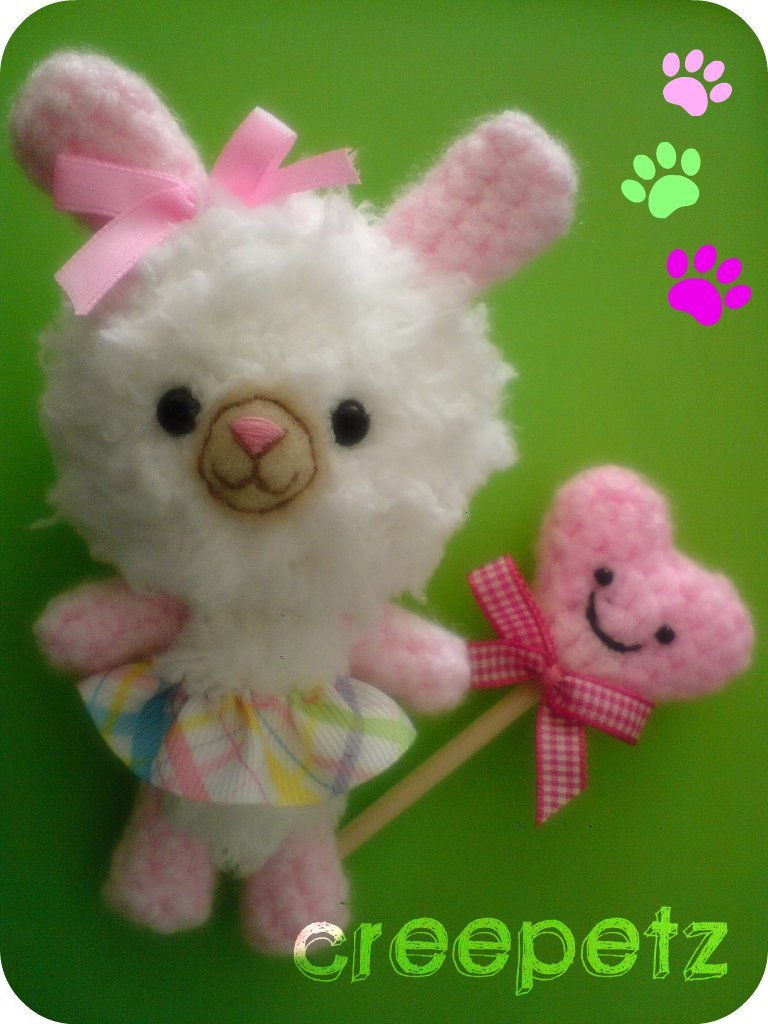Animal: (5, 51, 577, 959), (527, 453, 754, 708)
